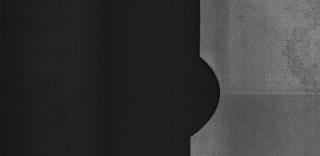welding line: (210, 87, 320, 99)
